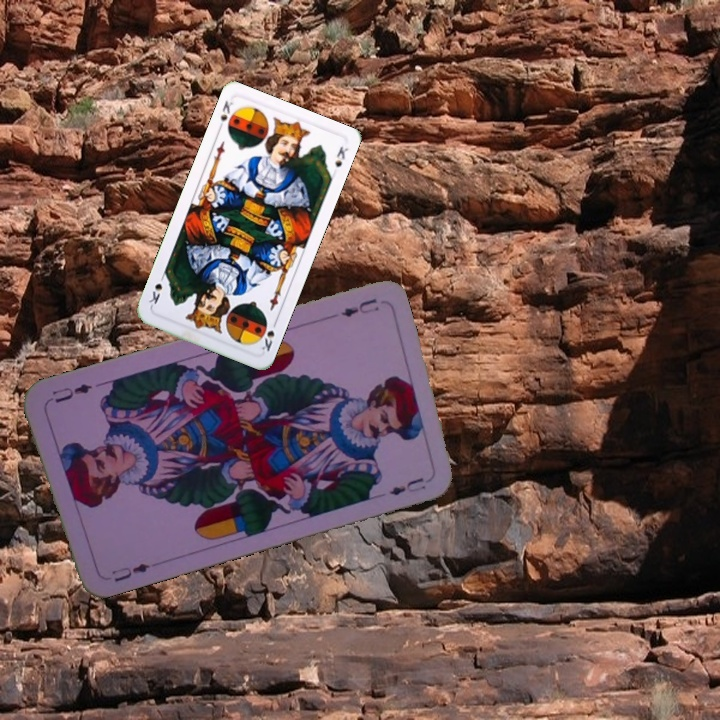EU: (337, 294, 382, 320), (108, 559, 152, 584)
SK: (257, 316, 280, 355), (215, 96, 236, 134)
